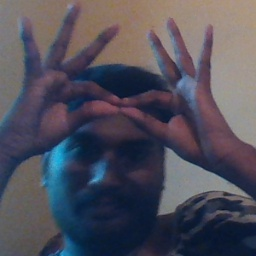B: (56, 48, 188, 151)
